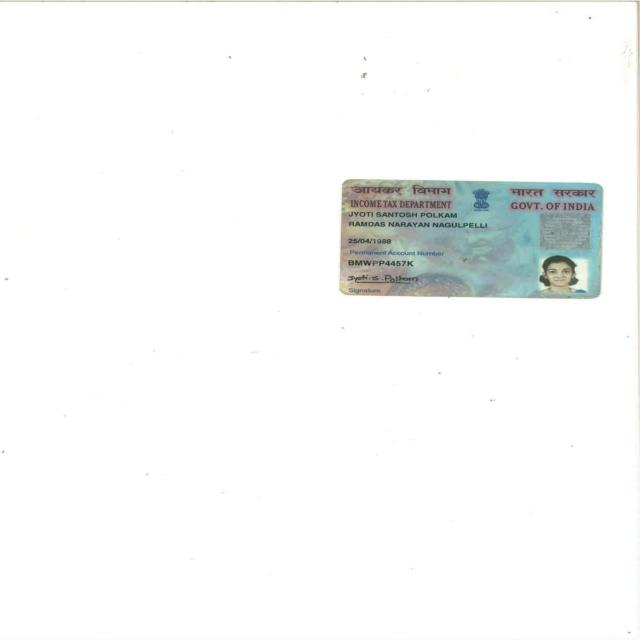pan_card: (339, 179, 605, 300)
